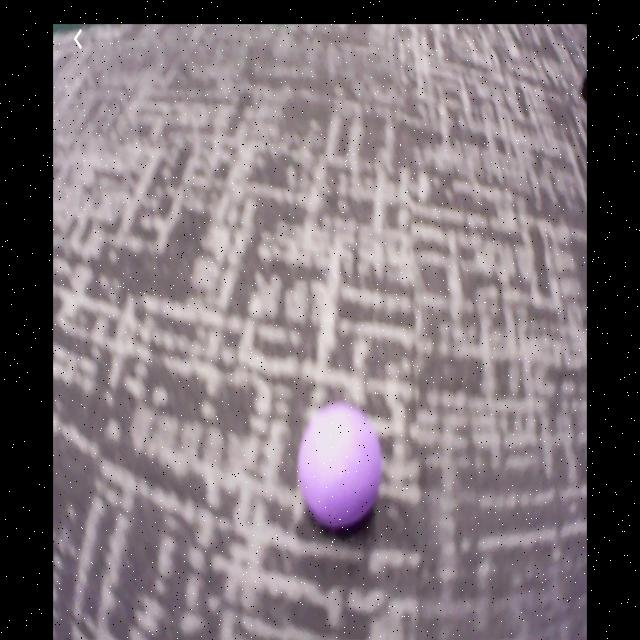ball: (299, 406, 382, 528)
